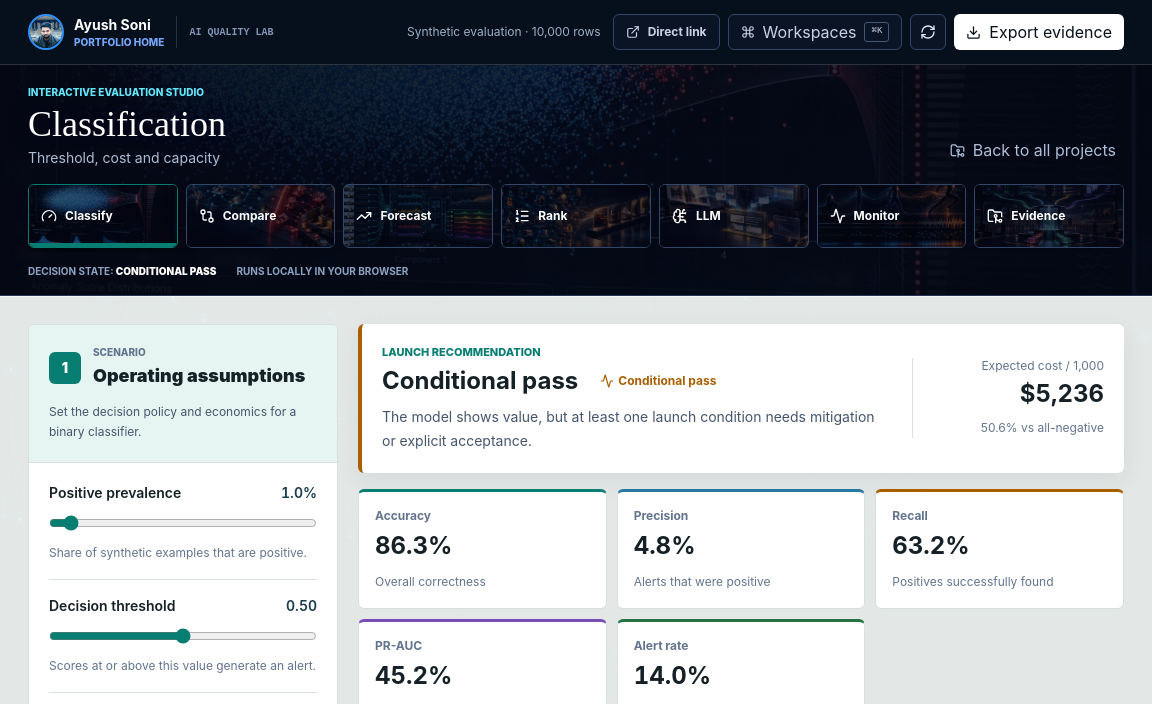
Test case: workspace navigation › activates Ranking & recommendations
This screenshot has width=1152, height=704.
Click the tab with aria-label "Ranking & recommendations".
click(576, 216)  # box left=501, top=184, right=651, bottom=248
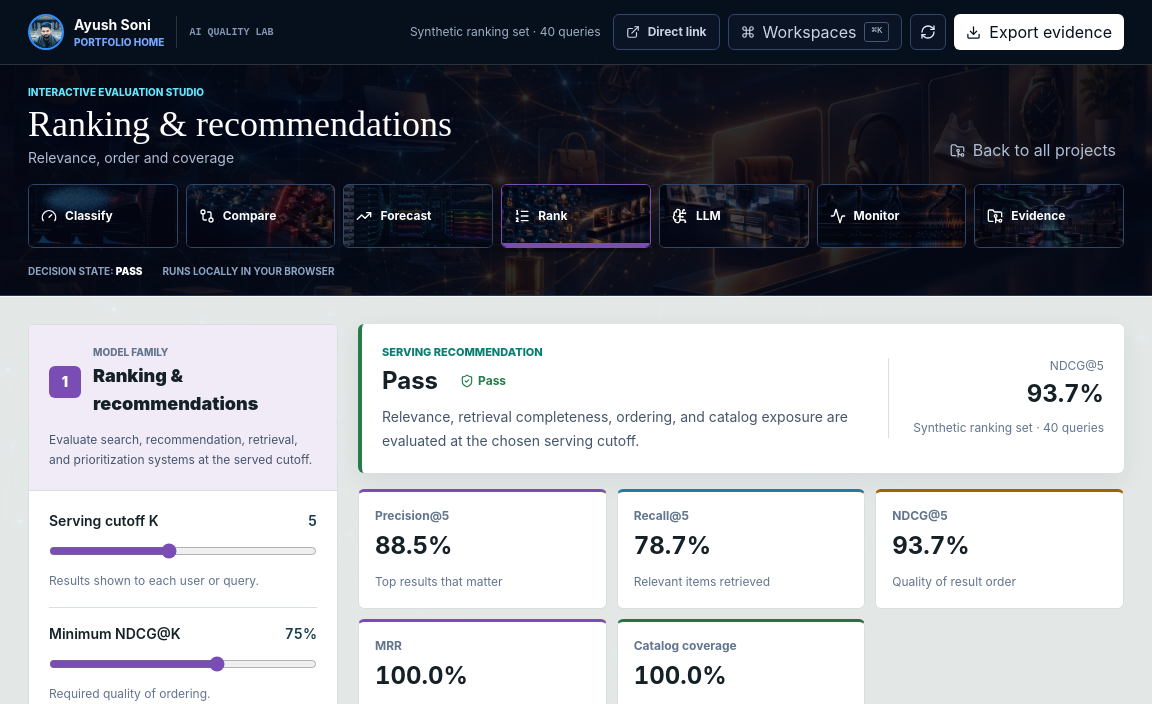
Expected: the heading "Ranking & recommendations" below "Interactive evaluation studio" is shown, left=28, top=104, right=452, bottom=144
